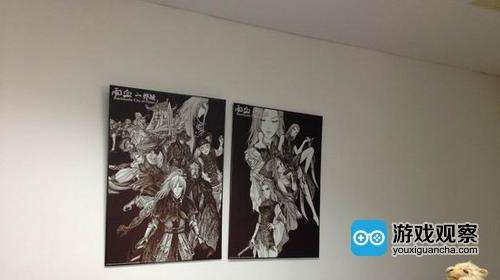bill: (105, 84, 225, 266), (228, 101, 324, 258)
